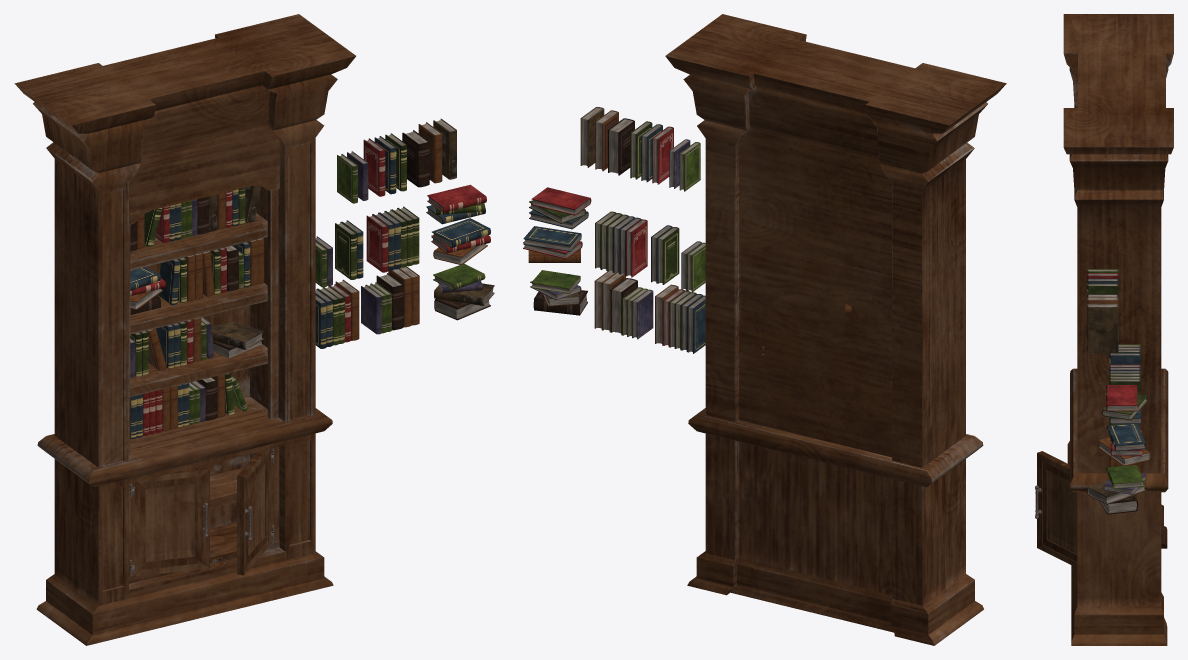
Rendered from obj_european_bookcase_b8792d.glb.
The picture shows the model from 3 angles, left to right: view 1: azimuth 30°, elevation 25°; view 2: azimuth 150°, elevation 25°; view 3: azimuth 270°, elevation 25°; orthographic projection. The views are drawn at different scales.
Parts seen in each view (by area): view 1: obj_european_bookcase_b8792d; view 2: obj_european_bookcase_b8792d; view 3: obj_european_bookcase_b8792d.
Part boxes in pixels (<box>): obj_european_bookcase_b8792d: <box>14,14,494,645</box>; obj_european_bookcase_b8792d: <box>523,14,1006,645</box>; obj_european_bookcase_b8792d: <box>1035,14,1173,645</box>.
Size of the model in its own units: 1.69 by 1.9 by 0.4714.
Materials: 2 (2 with a texture image).
